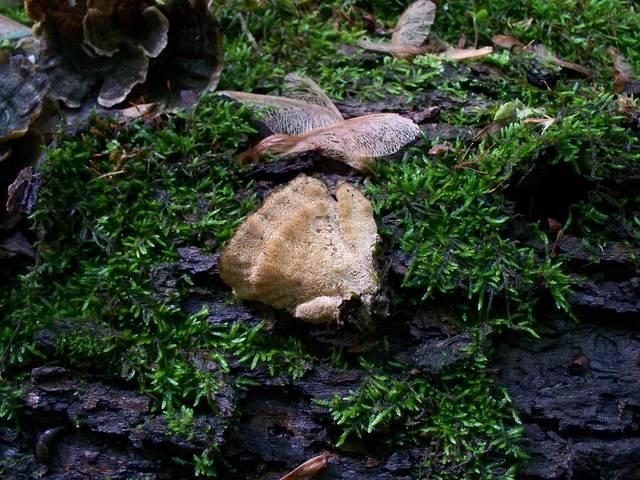Non-edible Mushroom: (216, 171, 385, 328), (239, 110, 421, 178)
